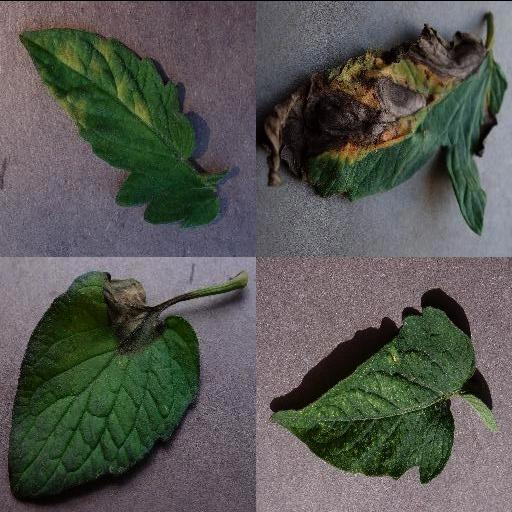Early Blight: (258, 8, 510, 234)
Late Blight: (5, 266, 201, 504)
Leaf Mold: (19, 27, 223, 229)
Spider Mites: (268, 305, 478, 481)
